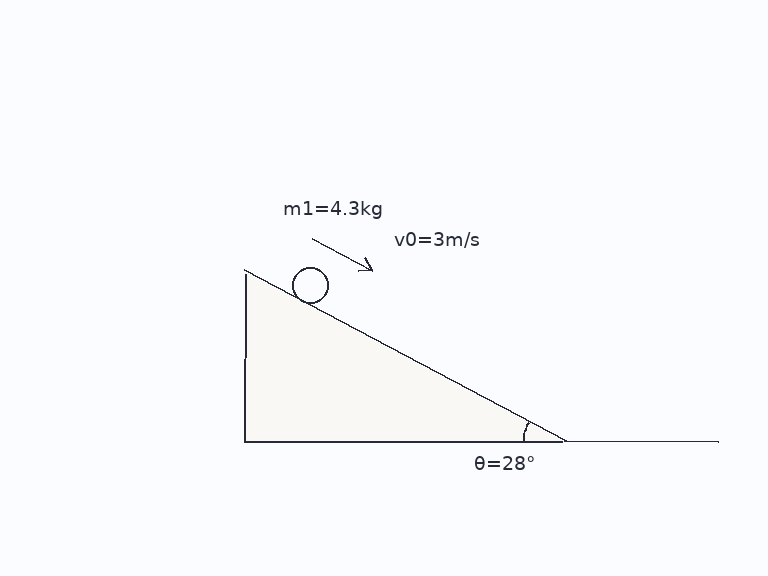ball: (290, 265, 330, 305)
ramp: (243, 270, 566, 443)
